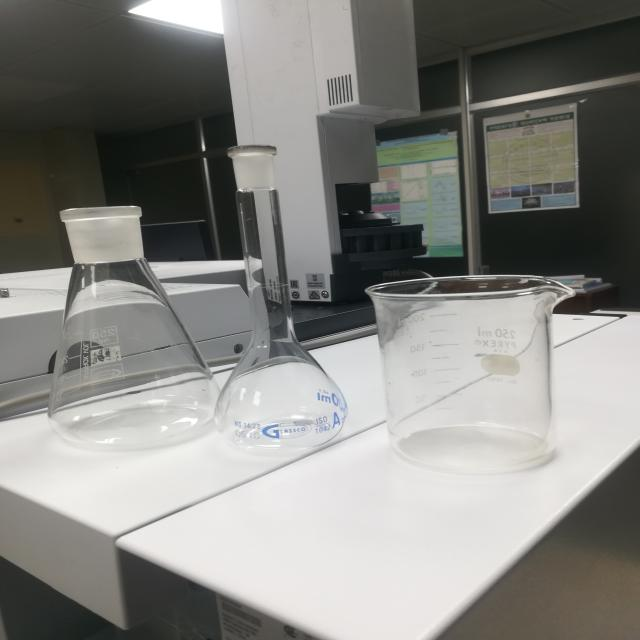Beaker: (351, 254, 609, 480)
Conical_Flask: (33, 189, 218, 444)
Volumetric_Flask: (198, 125, 356, 462)
